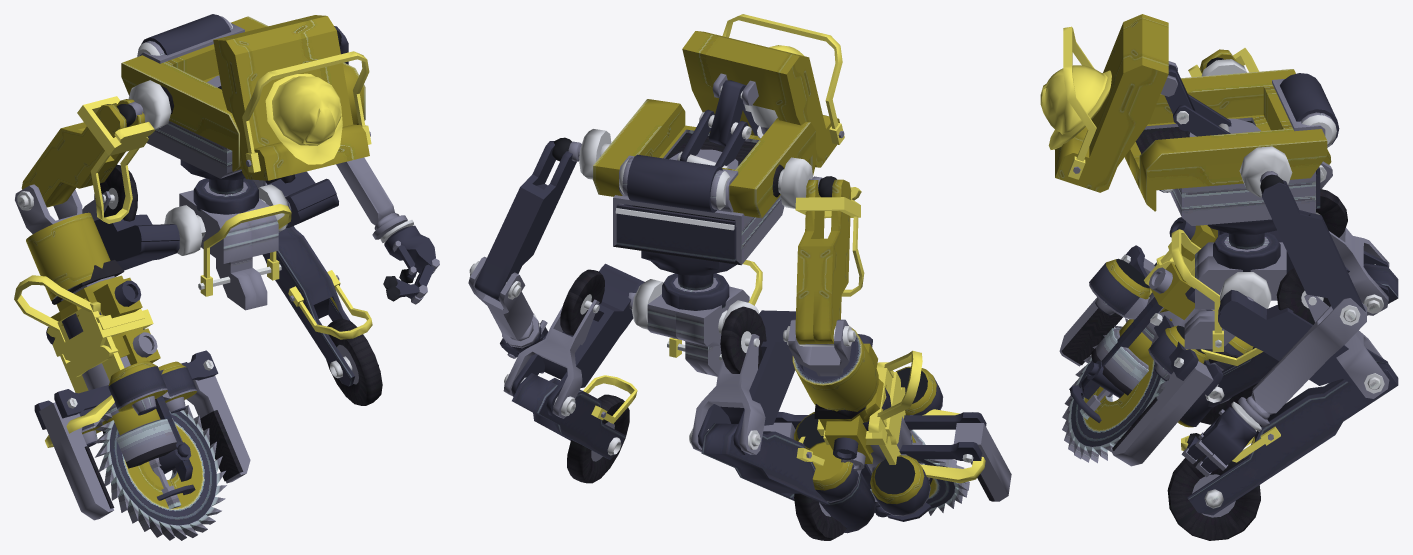
The model's file is mul-t-original.glb.
3 renders of one model, left to right at view 1: azimuth 30°, elevation 25°; view 2: azimuth 150°, elevation 25°; view 3: azimuth 270°, elevation 25°, orthographic. The views are drawn at different scales.
Visible parts, largest first — view 1: mdlToolbot; view 2: mdlToolbot; view 3: mdlToolbot.
Boxes of the visible parts, x1=… form: mdlToolbot: x1=14, y1=14, x2=439, y2=540; mdlToolbot: x1=468, y1=14, x2=1011, y2=540; mdlToolbot: x1=1040, y1=14, x2=1398, y2=540.
Size of the model in its own units: 13.98 by 14.31 by 9.83.
Materials: 1 (1 with a texture image).
